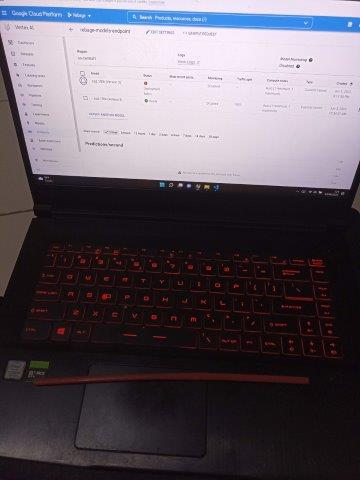sedotan: (36, 373, 308, 386)
